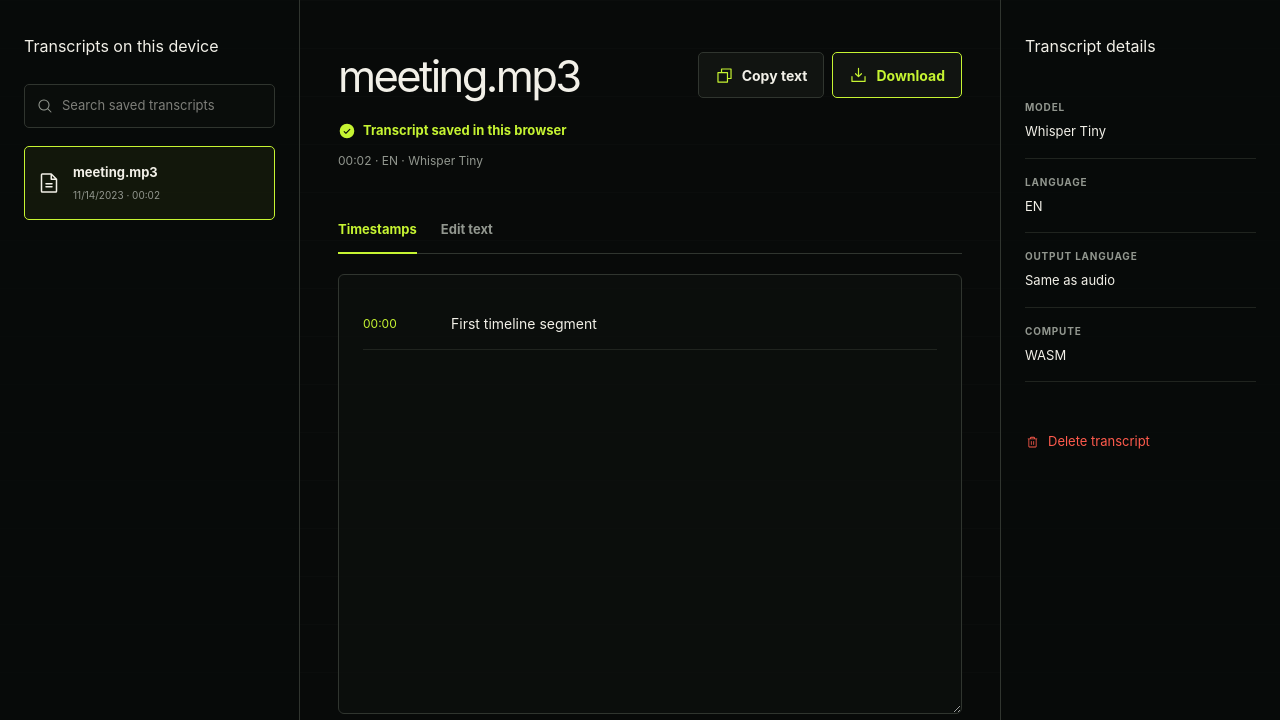
Test: HistoryWorkspace › 默认显示时间戳并允许切换到文本编辑
Expected: the text "First timeline segment" is shown, [451,315,597,332]
Expected: the text "Output language" is shown, [1025,250,1138,262]
Step 1. Click the tab "Edit text" → (467, 230), box [441,207,493,253]
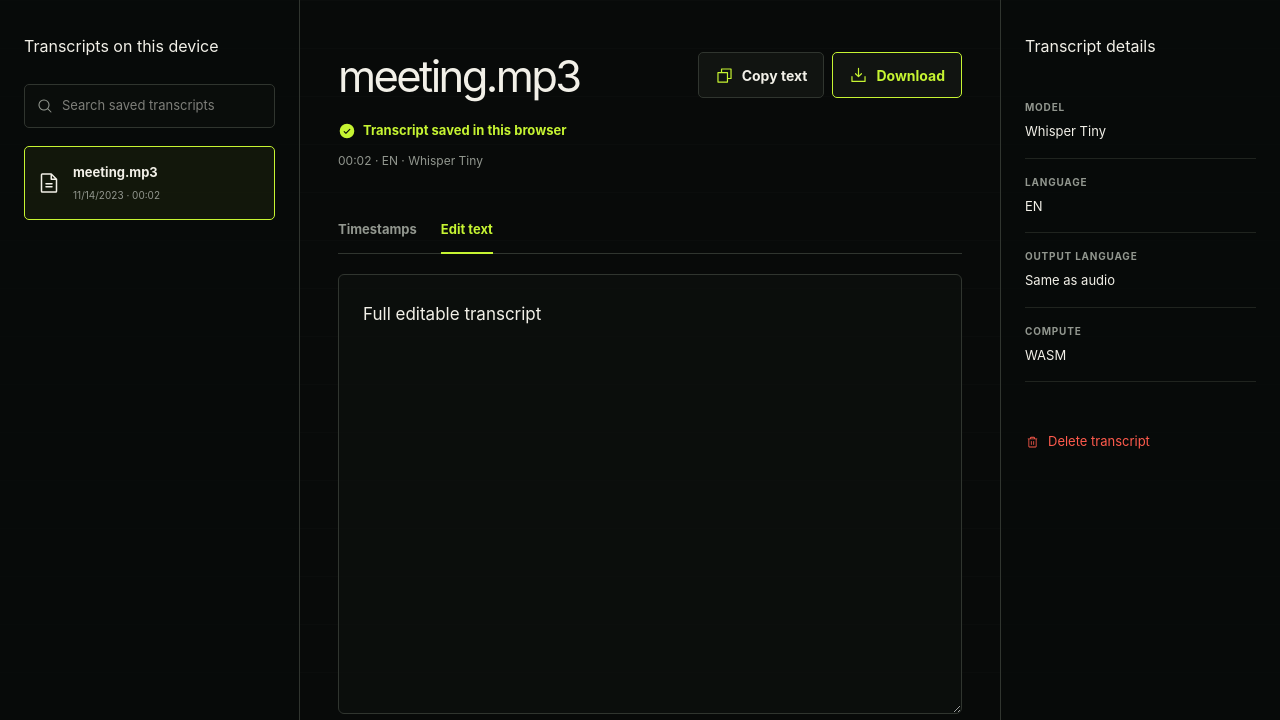
Expected: the text box named "Editable transcript" holds "Full editable transcript", [338,274,962,714]
